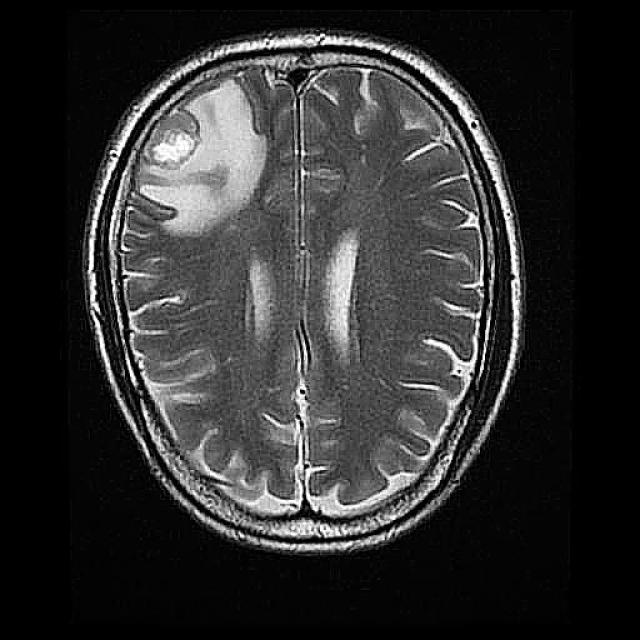Tumor-Cell: (136, 76, 255, 211)
